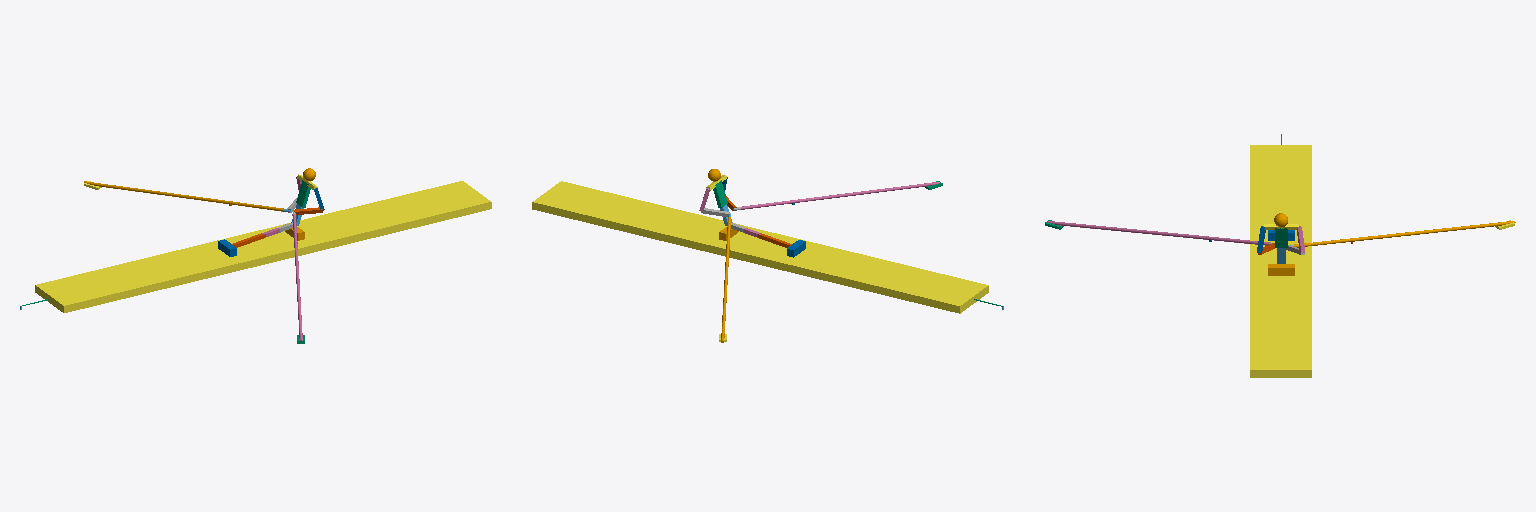
--- What the picture shows (computed from the rendered views, not written in the file) ---
The picture shows the robot from 3 angles, left to right: view 1: azimuth 30°, elevation 25°; view 2: azimuth 150°, elevation 25°; view 3: azimuth 270°, elevation 25°; orthographic projection.
Robot: myboat — 41 links, 40 joints (31 revolute, 2 prismatic, 7 fixed); root link world; default pose: every joint at zero.
Links seen in each view (by area): view 1: skiff, port_oar_l; view 2: skiff, starboard_oar_l; view 3: skiff, starboard_oar_l, port_oar_l.
Boxes of the visible links, box(x1,y1,x2,y2) form: skiff: box(35, 181, 491, 312); port_oar_l: box(84, 181, 283, 211); skiff: box(532, 181, 988, 313); starboard_oar_l: box(741, 182, 939, 209); skiff: box(1250, 145, 1311, 377); starboard_oar_l: box(1048, 221, 1269, 245); port_oar_l: box(1293, 221, 1515, 247).
Size in the robot's own frame: 6.41 by 5.32 by 0.9472 metres.
Geometry: primitives only (box / cylinder / sphere), no mesh files.

The robot description file, URDF, robot "myboat":
<?xml version="1.0" encoding="utf-8"?>
<!-- =================================================================================== -->
<!-- |    This document was autogenerated by xacro from boot.xacro                     | -->
<!-- |    EDITING THIS FILE BY HAND IS NOT RECOMMENDED                                 | -->
<!-- =================================================================================== -->
<robot name="myboat" xmlns:xacro="http://www.ros.org/wiki/xacro">
  <gazebo reference="starboard_rowlock">
    <provideFeedback>true</provideFeedback>
  </gazebo>
  <gazebo reference="port_rowlock">
    <provideFeedback>true</provideFeedback>
  </gazebo>
  <gazebo reference="starboard_oar">
    <provideFeedback>true</provideFeedback>
  </gazebo>
  <gazebo reference="port_oar">
    <provideFeedback>true</provideFeedback>
  </gazebo>
  <gazebo reference="starboard_blade">
    <provideFeedback>true</provideFeedback>
  </gazebo>
  <gazebo reference="port_blade">
    <provideFeedback>true</provideFeedback>
  </gazebo>
  <gazebo reference="skiff">
    <material>Gazebo/White</material>
    <mu1>0.01</mu1>
    <mu2>0.01</mu2>
    <collision>
      <surface>
        <friction>
          <ode>
            <slip1>0.05</slip1>
            <slip2>0.12</slip2>
          </ode>
        </friction>
      </surface>
    </collision>
  </gazebo>
  <gazebo reference="starboard_rowlock_l">
    <mu1>0.01</mu1>
    <mu2>0.01</mu2>
    <material>Gazebo/Green</material>
  </gazebo>
  <gazebo reference="port_rowlock_l">
    <mu1>0.01</mu1>
    <mu2>0.01</mu2>
    <material>Gazebo/Red</material>
    <provideFeedback>true</provideFeedback>
  </gazebo>
  <gazebo reference="starboard_oar_l">
    <mu1>0.01</mu1>
    <mu2>0.01</mu2>
    <material>Gazebo/Green</material>
    <provideFeedback>true</provideFeedback>
  </gazebo>
  <gazebo reference="port_oar_l">
    <mu1>0.01</mu1>
    <mu2>0.01</mu2>
    <material>Gazebo/Green</material>
    <provideFeedback>true</provideFeedback>
  </gazebo>
  <gazebo reference="starboard_blade_l">
    <mu1>10.0</mu1>
    <mu2>10.0</mu2>
    <material>Gazebo/Green</material>
    <provideFeedback>true</provideFeedback>
  </gazebo>
  <gazebo reference="port_blade_l">
    <mu1>10.0</mu1>
    <mu2>10.0</mu2>
    <material>Gazebo/Red</material>
    <provideFeedback>true</provideFeedback>
  </gazebo>
  <gazebo reference="voetenboord">
    <material>Gazebo/Gray</material>
  </gazebo>
  <gazebo>
    <!-- close kinematic loops in gazebo -->
    <joint name="lower12" type="fixed">
      <pose>0.25 0.0 0 0 0 0.0</pose>
      <parent>upperleg_1</parent>
      <child>upperleg_2</child>
    </joint>
    <joint name="handle_starboard" type="fixed">
      <pose>0.0 0.0 0 0 0 0.1</pose>
      <parent>Ldummy_link_1</parent>
      <child>Ldummy_link_2</child>
    </joint>
    <joint name="handle_port" type="fixed">
      <pose>0.0 0.0 0 0 0 0.1</pose>
      <parent>Rdummy_link_1</parent>
      <child>Rdummy_link_2</child>
    </joint>
  </gazebo>
  <material name="black">
    <color rgba="0.0 0.0 0.0 1.0"/>
  </material>
  <material name="blue">
    <color rgba="0.0 0.0 0.8 1.0"/>
  </material>
  <material name="green">
    <color rgba="0.0 0.8 0.0 1.0"/>
  </material>
  <material name="grey">
    <color rgba="0.2 0.2 0.2 1.0"/>
  </material>
  <material name="orange">
    <color rgba="1.0 0.423529411765 0.0392156862745 1.0"/>
  </material>
  <material name="brown">
    <color rgba="0.870588235294 0.811764705882 0.764705882353 1.0"/>
  </material>
  <material name="red">
    <color rgba="0.8 0.0 0.0 1.0"/>
  </material>
  <material name="white">
    <color rgba="1.0 1.0 1.0 1.0"/>
  </material>
  <!--
    Describes parameters of the boot model
        template version
-->
  <!--
 lengths of links, musle power?
-->
  <!-- Initial position of links that might change-->
  <joint name="the_course" type="prismatic">
    <parent link="world"/>
    <child link="l1"/>
    <origin rpy="0 0 0" xyz="0 0 0.0"/>
    <dynamics damping="0.005"/>
    <axis xyz="1 0 0"/>
    <limit effort="101.0" lower="0" upper="100" velocity="0.5"/>
  </joint>
  <joint name="rev1" type="revolute">
    <parent link="l1"/>
    <child link="l2"/>
    <origin rpy="0 1.57079632679 0" xyz="0.0 0 0.05"/>
    <dynamics damping="0.005"/>
    <axis xyz="0 1 0"/>
    <limit effort="101.0" lower="-1" upper="1" velocity="1.0"/>
  </joint>
  <joint name="rev2" type="revolute">
    <parent link="l2"/>
    <child link="skiff"/>
    <origin rpy="3.14159265359 1.57079632679 0" xyz="0.0 0.0 0.4"/>
    <dynamics damping="0.005"/>
    <axis xyz="0 1 0"/>
    <limit effort="101.0" lower="-1" upper="1" velocity="1.0"/>
  </joint>
  <joint name="starboard_rowlock" type="revolute">
    <parent link="skiff"/>
    <child link="starboard_rowlock_l"/>
    <origin rpy="0.0  0.0 -0.4939" xyz="-3 0.8 0.27"/>
    <dynamics damping="0.005"/>
    <axis xyz="0 0 1"/>
    <limit effort="101.0" lower="-0.4" upper="2.0" velocity="1.0"/>
  </joint>
  <joint name="port_rowlock" type="revolute">
    <parent link="skiff"/>
    <child link="port_rowlock_l"/>
    <origin rpy="0.0  0.0 0.4939" xyz="-3 -0.8 0.25"/>
    <dynamics damping="0.005"/>
    <axis xyz="0 0 1"/>
    <limit effort="101.0" lower="-2.0" upper="0.4" velocity="1.0"/>
  </joint>
  <joint name="starboard_oar" type="revolute">
    <parent link="starboard_rowlock_l"/>
    <child link="starboard_oar_l"/>
    <origin rpy="0.0  1.44499632679 -1.57079632679" xyz="0.0 0.0   0.02"/>
    <dynamics damping="0.005"/>
    <axis xyz="0 1 0"/>
    <limit effort="101.0" lower="-0.4" upper="0.1" velocity="1.0"/>
  </joint>
  <joint name="port_oar" type="revolute">
    <parent link="port_rowlock_l"/>
    <child link="port_oar_l"/>
    <origin rpy="0.0  1.68669632679 -1.57079632679" xyz="0.0 0.0   0.02"/>
    <dynamics damping="0.005"/>
    <axis xyz="0 1 0"/>
    <limit effort="101.0" lower="-0.1" upper="0.4" velocity="1.0"/>
  </joint>
  <joint name="starboard_blade" type="revolute">
    <parent link="starboard_oar_l"/>
    <child link="starboard_blade_l"/>
    <origin rpy="0  0.02  0.0" xyz="0.0 0.0   -2.0"/>
    <dynamics damping="0.005"/>
    <axis xyz="0 1 0"/>
    <limit effort="101.0" lower="-0.4" upper="0.4" velocity="1.0"/>
  </joint>
  <joint name="port_blade" type="revolute">
    <parent link="port_oar_l"/>
    <child link="port_blade_l"/>
    <origin rpy="0.0  0.0 0.0" xyz="0.0 0.0   2.0"/>
    <dynamics damping="0.005"/>
    <axis xyz="0 1 0"/>
    <limit effort="101.0" lower="-0.4" upper="0.4" velocity="1.0"/>
  </joint>
  <!-- Rower joints -->
  <joint name="sk_fp" type="fixed">
    <parent link="skiff"/>
    <child link="footplate"/>
    <origin rpy="0.0  0 0.0" xyz="-2.5 0.0  0.1"/>
    <dynamics damping="0.005"/>
    <limit effort="101.0" lower="-0.4" upper="0.4" velocity="1.0"/>
  </joint>
  <joint name="sliding" type="prismatic">
    <!-- prismatic -->
    <parent link="skiff"/>
    <child link="seat"/>
    <origin rpy="0 0 0" xyz="-3.44455 0.0 0.1"/>
    <dynamics damping="0.005"/>
    <axis xyz="1 0 0"/>
    <limit effort="101.0" lower="-0.1" upper="0.8" velocity="0.5"/>
  </joint>
  <joint name="fp_ll" type="revolute">
    <parent link="footplate"/>
    <child link="lowerleg"/>
    <origin rpy="0.0  0.1071 0.0" xyz="0.0 0.0   0.0"/>
    <dynamics damping="0.005"/>
    <axis xyz="0 1 0"/>
    <limit effort="101.0" lower="0.0" upper="1.57079632679" velocity="1.0"/>
  </joint>
  <joint name="knee" type="revolute">
    <parent link="lowerleg"/>
    <child link="upperleg_1"/>
    <origin rpy="0.0  0 0.0" xyz="-0.5 0.0   0.0"/>
    <dynamics damping="0.005"/>
    <axis xyz="0 1 0"/>
    <limit effort="1000.0" lower="-3.1" upper="0" velocity="1.0"/>
  </joint>
  <joint name="hip1" type="revolute">
    <parent link="seat"/>
    <child link="upperleg_2"/>
    <origin rpy="0  0.1001675 0.0" xyz="0.0 0.0   0.1"/>
    <dynamics damping="0.005"/>
    <axis xyz="0 1 0"/>
    <limit effort="101.0" lower="-1.6" upper="0" velocity="1.0"/>
  </joint>
  <joint name="hip2" type="revolute">
    <parent link="seat"/>
    <child link="back_low"/>
    <origin rpy="0  -1.89979632679 0.0" xyz="0.0 0.0   0.1"/>
    <dynamics damping="0.005"/>
    <axis xyz="0 1 0"/>
    <limit effort="1000.0" lower="-1.0" upper="1.0" velocity="1.0"/>
  </joint>
  <joint name="back_lh" type="revolute">
    <parent link="back_low"/>
    <child link="back_high"/>
    <origin rpy="0  0.0182 0.0" xyz="0.25 0.0   0.0"/>
    <dynamics damping="0.005"/>
    <axis xyz="0 1 0"/>
    <limit effort="101.0" lower="0.0" upper="0.5" velocity="1.0"/>
  </joint>
  <joint name="shoulder" type="fixed">
    <parent link="back_high"/>
    <child link="shoulder_link"/>
    <origin rpy="0  0.0 0.0" xyz="0.3 0.0   0.0"/>
    <dynamics damping="0.005"/>
    <limit effort="101.0" lower="0.0" upper="0.5" velocity="1.0"/>
  </joint>
  <joint name="head_joint" type="fixed">
    <parent link="shoulder_link"/>
    <child link="head"/>
    <origin rpy="0  0.0 0.0" xyz="0.2 0.0   0.0"/>
  </joint>
  <!-- Left branch from shoulder_link to starboard_oar -->
  <!-- 3D joint left shoulder -->
  <joint name="shoulder_l" type="revolute">
    <parent link="shoulder_link"/>
    <child link="left_shoulder_xx_link"/>
    <origin rpy="0.0 0.5674 0.0" xyz="0.0 0.2   0.0"/>
    <axis xyz="0 -1 0"/>
    <dynamics damping="0.005"/>
    <limit effort="101.0" lower="-1.0" upper="2.2" velocity="1.0"/>
  </joint>
  <link name="left_shoulder_xx_link">
    <inertial>
      <mass value="1.0"/>
      <origin rpy="0 0 0" xyz="0 0.0 0.0"/>
      <inertia ixx="0.0000167" ixy="0" ixz="0" iyy="0.0000167" iyz="0" izz="0.0000167"/>
    </inertial>
    <visual>
      <origin rpy="0 0 0" xyz="0.0 0.0 0.0"/>
      <geometry>
        <box size="0.01 0.01 0.01"/>
      </geometry>
    </visual>
  </link>
  <joint name="shoulder_psi_l" type="revolute">
    <parent link="left_shoulder_xx_link"/>
    <child link="left_shoulder_psi_link"/>
    <origin rpy="0 0.0 -0.1546" xyz="0.0 0.0   0.0"/>
    <axis xyz="0 0 -1"/>
    <dynamics damping="0.005"/>
    <limit effort="101.0" lower="-1.0" upper="1.0" velocity="1.0"/>
  </joint>
  <link name="left_shoulder_psi_link">
    <inertial>
      <mass value="1.0"/>
      <origin rpy="0 0 0" xyz="0 0.0 0.0"/>
      <inertia ixx="0.0000167" ixy="0" ixz="0" iyy="0.000167" iyz="0" izz="0.0000167"/>
    </inertial>
    <visual>
      <origin rpy="0 0 0" xyz="0.0 0.0 0.0"/>
      <geometry>
        <box size="0.01 0.01 0.01"/>
      </geometry>
    </visual>
  </link>
  <joint name="shoulder_theta_l" type="revolute">
    <parent link="left_shoulder_psi_link"/>
    <child link="arm_l_upper"/>
    <origin rpy="-0.3847 0 0" xyz="0.0 0.0 0.0"/>
    <axis xyz="1 0 0"/>
    <dynamics damping="0.005"/>
    <limit effort="101.0" lower="-1.0" upper="1.0" velocity="1.0"/>
  </joint>
  <!-- 3D joint left elbow -->
  <joint name="elbow_xx_l" type="revolute">
    <parent link="arm_l_upper"/>
    <child link="left_elbow_theta_link"/>
    <origin rpy=" 3.14159265359 -1.75859632679  0.0" xyz="-0.3 0.0  0.0"/>
    <axis xyz="0 1 0"/>
    <dynamics damping="0.005"/>
    <limit effort="101.0" lower="-1.77079632679" upper="1.57079632679" velocity="1.0"/>
  </joint>
  <link name="left_elbow_theta_link">
    <inertial>
      <mass value="1.0"/>
      <origin rpy="0 0 0" xyz="0 0.0 0.0"/>
      <inertia ixx="0.0000167" ixy="0" ixz="0" iyy="0.0000167" iyz="0" izz="0.0000167"/>
    </inertial>
    <visual>
      <origin rpy="0 0 0" xyz="0.0 0.0 0.0"/>
      <geometry>
        <box size="0.01 0.01 0.01"/>
      </geometry>
    </visual>
  </link>
  <joint name="elbow_theta_l" type="revolute">
    <parent link="left_elbow_theta_link"/>
    <child link="left_elbow_psi_link"/>
    <origin rpy="0 0.0  -0.1514" xyz="-0.0 0.0  0.0"/>
    <axis xyz="0 0 -1"/>
    <dynamics damping="0.005"/>
    <limit effort="101.0" lower="-0.7" upper="2.0" velocity="1.0"/>
  </joint>
  <link name="left_elbow_psi_link">
    <inertial>
      <mass value="1.0"/>
      <origin rpy="0 0 0" xyz="0 0.0 0.0"/>
      <inertia ixx="0.0000167" ixy="0" ixz="0" iyy="0.0000167" iyz="0" izz="0.0000167"/>
    </inertial>
    <visual>
      <origin rpy="0 0 0" xyz="0.0 0.0 0.0"/>
      <geometry>
        <box size="0.01 0.01 0.01"/>
      </geometry>
    </visual>
  </link>
  <joint name="elbow_left" type="revolute">
    <parent link="left_elbow_psi_link"/>
    <child link="arm_l_lower"/>
    <origin rpy="0.2139 0 0" xyz="-0.0 0.0 0.0"/>
    <dynamics damping="0.005"/>
    <axis xyz="1 0 0"/>
    <limit effort="101.0" lower="-1.0" upper="1.0" velocity="1.0"/>
  </joint>
  <!-- 3D handle joint left -->
  <joint name="handle_left_j3" type="revolute">
    <parent link="arm_l_lower"/>
    <child link="handle_left_l2"/>
    <origin rpy="1.57079632679 0.0805 0" xyz="-0.35 0.0 0.0"/>
    <dynamics damping="0.005"/>
    <axis xyz="0 1 0"/>
    <limit effort="101.0" lower="-1" upper="1" velocity="1.0"/>
  </joint>
  <link name="handle_left_l2">
    <inertial>
      <mass value="0.1"/>
      <origin rpy="0 0 0" xyz="0 0.0 0.0"/>
      <inertia ixx="0.00000167" ixy="0" ixz="0" iyy="0.00000167" iyz="0" izz="0.00000167"/>
    </inertial>
    <visual>
      <origin rpy="0 0 0" xyz="0.0 0.0 0.0"/>
      <geometry>
        <box size="0.01 0.01 0.01"/>
      </geometry>
    </visual>
  </link>
  <joint name="handle_left_j2" type="revolute">
    <parent link="handle_left_l2"/>
    <child link="handle_left_l1"/>
    <origin rpy="-0.0566 0 0" xyz="0 0.0 0.0"/>
    <dynamics damping="0.005"/>
    <axis xyz="1 0 0"/>
    <limit effort="101.0" lower="-1" upper="1" velocity="1.0"/>
  </joint>
  <link name="handle_left_l1">
    <inertial>
      <mass value="0.1"/>
      <origin rpy="0 0 0" xyz="0 0.0 0.0"/>
      <inertia ixx="0.00000167" ixy="0" ixz="0" iyy="0.00000167" iyz="0" izz="0.00000167"/>
    </inertial>
    <visual>
      <origin rpy="0 0 0" xyz="0.0 0.0 0.0"/>
      <geometry>
        <box size="0.01 0.01 0.01"/>
      </geometry>
    </visual>
  </link>
  <joint name="handle_left_j1" type="revolute">
    <parent link="handle_left_l1"/>
    <child link="starboard_handle_l"/>
    <origin rpy="0 0 -0.0905" xyz="0 0.0 0"/>
    <dynamics damping="0.005"/>
    <axis xyz="0 0 1"/>
    <limit effort="101.0" lower="-1" upper="1" velocity="1.0"/>
  </joint>
  <joint name="Ldummy_2" type="fixed">
    <parent link="starboard_handle_l"/>
    <child link="Ldummy_link_2"/>
    <origin rpy="0 0 0 " xyz="0.0 0.0 0.075"/>
    <dynamics damping="0.005"/>
    <limit effort="101.0" lower="-1.0" upper="1.0" velocity="1.0"/>
  </joint>
  <link name="Ldummy_link_2">
    <inertial>
      <mass value="0.1"/>
      <origin rpy="0 0 0" xyz="0 0.0 0.0"/>
      <inertia ixx="0.000000167" ixy="0" ixz="0" iyy="0.000000167" iyz="0" izz="0.000000167"/>
    </inertial>
    <visual>
      <origin rpy="0 0 0" xyz="0.0 0.0 0.0"/>
      <geometry>
        <box size="0.01 0.01 0.01"/>
      </geometry>
    </visual>
  </link>
  <!-- in gazebo here the joint that closes the left loop -->
  <link name="Ldummy_link_1">
    <inertial>
      <mass value="0.1"/>
      <origin rpy="0 0 0" xyz="0 0.0 0.0"/>
      <inertia ixx="0.000000167" ixy="0" ixz="0" iyy="0.000000167" iyz="0" izz="0.000000167"/>
    </inertial>
    <visual>
      <origin rpy="0 0 0" xyz="0.0 0.0 0.0"/>
      <geometry>
        <box size="0.01 0.01 0.01"/>
      </geometry>
    </visual>
  </link>
  <joint name="Ldummy_1" type="fixed">
    <parent link="starboard_oar_l"/>
    <child link="Ldummy_link_1"/>
    <origin rpy="0 3.14159265359 1.57079632679" xyz="0 0 0.77 "/>
    <dynamics damping="0.005"/>
    <limit effort="101.0" lower="-1.0" upper="1.0" velocity="1.0"/>
  </joint>
  <!-- Right branch from shoulder_link to port_handle -->
  <!-- 3D joint right shoulder -->
  <joint name="shoulder_r" type="revolute">
    <parent link="shoulder_link"/>
    <child link="right_shoulder_xx_link"/>
    <origin rpy="0.0 0.5573  0" xyz="0.0 -0.2   0.0"/>
    <axis xyz="0 -1 0"/>
    <dynamics damping="0.005"/>
    <limit effort="101.0" lower="-1.0" upper="2.2" velocity="1.0"/>
  </joint>
  <link name="right_shoulder_xx_link">
    <inertial>
      <mass value="1.0"/>
      <origin rpy="0 0 0" xyz="0 0.0 0.0"/>
      <inertia ixx="0.0000167" ixy="0" ixz="0" iyy="0.0000167" iyz="0" izz="0.0000167"/>
    </inertial>
    <visual>
      <origin rpy="0 0 0" xyz="0.0 0.0 0.0"/>
      <geometry>
        <box size="0.01 0.01 0.01"/>
      </geometry>
    </visual>
  </link>
  <joint name="shoulder_psi_r" type="revolute">
    <parent link="right_shoulder_xx_link"/>
    <child link="right_shoulder_psi_link"/>
    <origin rpy="0 0.0 0.1429" xyz="0.0 0.0   0.0"/>
    <axis xyz="0 0 1"/>
    <dynamics damping="0.005"/>
    <limit effort="101.0" lower="-1.0" upper="1.0" velocity="1.0"/>
  </joint>
  <link name="right_shoulder_psi_link">
    <inertial>
      <mass value="1.0"/>
      <origin rpy="0 0 0" xyz="0 0.0 0.0"/>
      <inertia ixx="0.0000167" ixy="0" ixz="0" iyy="0.0000167" iyz="0" izz="0.0000167"/>
    </inertial>
    <visual>
      <origin rpy="0 0 0" xyz="0.0 0.0 0.0"/>
      <geometry>
        <box size="0.01 0.01 0.01"/>
      </geometry>
    </visual>
  </link>
  <joint name="shoulder_theta_r" type="revolute">
    <parent link="right_shoulder_psi_link"/>
    <child link="arm_r_upper"/>
    <origin rpy="3.52999265359 0 0" xyz="0.0 0.0 0.0"/>
    <axis xyz="-1 0 0"/>
    <dynamics damping="0.005"/>
    <limit effort="101.0" lower="-1.0" upper="1.0" velocity="1.0"/>
  </joint>
  <!-- 3D joint right elbow -->
  <joint name="elbow_xx_r" type="revolute">
    <parent link="arm_r_upper"/>
    <child link="right_elbow_theta_link"/>
    <origin rpy="0 1.66469632679  0.0" xyz="-0.3 0.0  0.0"/>
    <axis xyz="0 1 0"/>
    <dynamics damping="0.005"/>
    <limit effort="101.0" lower="-1.77079632679" upper="1.57079632679" velocity="1.0"/>
  </joint>
  <link name="right_elbow_theta_link">
    <inertial>
      <mass value="1.0"/>
      <origin rpy="0 0 0" xyz="0 0.0 0.0"/>
      <inertia ixx="0.0000167" ixy="0" ixz="0" iyy="0.0000167" iyz="0" izz="0.0000167"/>
    </inertial>
    <visual>
      <origin rpy="0 0 0" xyz="0.0 0.0 0.0"/>
      <geometry>
        <box size="0.01 0.01 0.01"/>
      </geometry>
    </visual>
  </link>
  <joint name="elbow_theta_r" type="revolute">
    <parent link="right_elbow_theta_link"/>
    <child link="right_elbow_psi_link"/>
    <origin rpy="0.0 0.0  0.1502" xyz="0.0 0.0  0.0"/>
    <axis xyz="0 0 1"/>
    <dynamics damping="0.005"/>
    <limit effort="101.0" lower="-2.0" upper="1.0" velocity="1.0"/>
  </joint>
  <link name="right_elbow_psi_link">
    <inertial>
      <mass value="1.0"/>
      <origin rpy="0 0 0" xyz="0 0.0 0.0"/>
      <inertia ixx="0.0000167" ixy="0" ixz="0" iyy="0.0000167" iyz="0" izz="0.0000167"/>
    </inertial>
    <visual>
      <origin rpy="0 0 0" xyz="0.0 0.0 0.0"/>
      <geometry>
        <box size="0.01 0.01 0.01"/>
      </geometry>
    </visual>
  </link>
  <joint name="elbow_right" type="revolute">
    <parent link="right_elbow_psi_link"/>
    <child link="arm_r_lower"/>
    <origin rpy="-0.1662 0 0" xyz="0.0 0.0 0.0"/>
    <dynamics damping="0.005"/>
    <axis xyz="-1 0 0"/>
    <limit effort="101.0" lower="-1.0" upper="1.0" velocity="1.0"/>
  </joint>
  <!-- 3D handle joint right-->
  <joint name="handle_right_j3" type="revolute">
    <parent link="arm_r_lower"/>
    <child link="handle_right_l2"/>
    <origin rpy="1.57079632679 -0.0429 0" xyz="-0.35 0.0 0.0"/>
    <dynamics damping="0.005"/>
    <axis xyz="0 -1 0"/>
    <limit effort="101.0" lower="-1" upper="1" velocity="1.0"/>
  </joint>
  <link name="handle_right_l2">
    <inertial>
      <mass value="0.1"/>
      <origin rpy="0 0 0" xyz="0 0.0 0.0"/>
      <inertia ixx="0.00000167" ixy="0" ixz="0" iyy="0.00000167" iyz="0" izz="0.00000167"/>
    </inertial>
    <visual>
      <origin rpy="0 0 0" xyz="0.0 0.0 0.0"/>
      <geometry>
        <box size="0.01 0.01 0.01"/>
      </geometry>
    </visual>
  </link>
  <joint name="handle_right_j2" type="revolute">
    <parent link="handle_right_l2"/>
    <child link="handle_right_l1"/>
    <origin rpy="0.0329 0 0" xyz="0 0.0 0.0"/>
    <dynamics damping="0.005"/>
    <axis xyz="-1 0 0"/>
    <limit effort="101.0" lower="-1" upper="1.2" velocity="1.0"/>
  </joint>
  <link name="handle_right_l1">
    <inertial>
      <mass value="0.1"/>
      <origin rpy="0 0 0" xyz="0 0.0 0.0"/>
      <inertia ixx="0.00000167" ixy="0" ixz="0" iyy="0.00000167" iyz="0" izz="0.00000167"/>
    </inertial>
    <visual>
      <origin rpy="0 0 0" xyz="0.0 0.0 0.0"/>
      <geometry>
        <box size="0.01 0.01 0.01"/>
      </geometry>
    </visual>
  </link>
  <joint name="handle_right_j1" type="revolute">
    <parent link="handle_right_l1"/>
    <child link="port_handle_l"/>
    <origin rpy="0 0 -0.2017" xyz="0 0.0 0"/>
    <dynamics damping="0.005"/>
    <axis xyz="0 0 1"/>
    <limit effort="101.0" lower="-1" upper="1" velocity="1.0"/>
  </joint>
  <joint name="Rdummy_2" type="fixed">
    <parent link="port_handle_l"/>
    <child link="Rdummy_link_2"/>
    <origin rpy="3.14159265359 0  0.0" xyz="0.0 0.0 -0.075"/>
    <dynamics damping="0.005"/>
    <limit effort="101.0" lower="-1.0" upper="1.0" velocity="1.0"/>
  </joint>
  <link name="Rdummy_link_2">
    <inertial>
      <mass value="0.1"/>
      <origin rpy="0 0 0" xyz="0 0.0 0.0"/>
      <inertia ixx="0.000000167" ixy="0" ixz="0" iyy="0.000000167" iyz="0" izz="0.000000167"/>
    </inertial>
    <visual>
      <origin rpy="0 0 0" xyz="0.0 0.0 0.0"/>
      <geometry>
        <box size="0.01 0.01 0.01"/>
      </geometry>
    </visual>
  </link>
  <!-- in gazebo here the joint that closes the right loop -->
  <link name="Rdummy_link_1">
    <inertial>
      <mass value="0.1"/>
      <origin rpy="0 0 0" xyz="0 0.0 0.0"/>
      <inertia ixx="0.000000167" ixy="0" ixz="0" iyy="0.000000167" iyz="0" izz="0.000000167"/>
    </inertial>
    <visual>
      <origin rpy="0 0 0" xyz="0.0 0.0 0.0"/>
      <geometry>
        <box size="0.01 0.01 0.01"/>
      </geometry>
    </visual>
  </link>
  <joint name="Rdummy_1" type="fixed">
    <parent link="port_oar_l"/>
    <child link="Rdummy_link_1"/>
    <origin rpy="0 0 -1.57079632679" xyz="0.0 0.0 -0.77"/>
    <dynamics damping="0.005"/>
    <limit effort="101.0" lower="-1.0" upper="1.0" velocity="1.0"/>
  </joint>
  <!-- Boat links -->
  <link name="world"/>
  <link name="l1">
    <inertial>
      <mass value="0.1"/>
      <origin rpy="0 0 0" xyz="0 0.0 0.025"/>
      <inertia ixx="0.000033" ixy="0" ixz="0" iyy="0.000033" iyz="0" izz="0.000000167"/>
    </inertial>
    <visual>
      <origin rpy="0 0 0" xyz="0.0 0.0 0.025"/>
      <geometry>
        <box size="0.01 0.01 0.05"/>
      </geometry>
    </visual>
  </link>
  <link name="l2">
    <inertial>
      <mass value="0.1"/>
      <origin rpy="0 0 0" xyz="0 0.0 0.2"/>
      <inertia ixx="0.000133" ixy="0" ixz="0" iyy="000133" iyz="0" izz="0.000000167"/>
    </inertial>
    <visual>
      <origin rpy="0 0 0" xyz="0.0 0.0 0.2"/>
      <geometry>
        <box size="0.01 0.01 0.40"/>
      </geometry>
    </visual>
  </link>
  <link name="skiff">
    <inertial>
      <mass value="85"/>
      <!-- boat plus roeier -->
      <origin rpy="0 0 0" xyz="-3 0.0 0.00"/>
      <inertia ixx="3.2" ixy="0" ixz="0" iyy="225" iyz="0" izz="228"/>
      <!-- weight= 60 -->
      <!--      <inertia ixx="0.6" ixy="0" ixz="0" iyy="11" iyz="0" izz="11.8"/>  -->
    </inertial>
    <collision>
      <origin rpy="0 0 0" xyz="-3 0.0   0.00"/>
      <geometry>
        <box size="6.0 0.7 0.1"/>
      </geometry>
    </collision>
    <visual>
      <!-- should be a nice skull shape including riggers-->
      <origin rpy="0 0 0" xyz="-3 0.0   0.00"/>
      <geometry>
        <box size="6.0 0.7 0.1"/>
      </geometry>
    </visual>
  </link>
  <link name="starboard_rowlock_l">
    <inertial>
      <mass value="0.1"/>
      <origin rpy="0 0 0" xyz="0.0 0.0 0.0"/>
      <inertia ixx="0.000017" ixy="0" ixz="0" iyy="0.000017" iyz="0" izz="0.000007"/>
    </inertial>
    <collision>
      <origin rpy="0 0 0" xyz="0.0 0.0   0.0"/>
      <geometry>
        <box size="0.02 0.02 0.04"/>
      </geometry>
    </collision>
    <visual>
      <origin rpy="0 0 0" xyz="0.0 0.0   0.0"/>
      <geometry>
        <box size="0.02 0.02 0.04"/>
      </geometry>
    </visual>
  </link>
  <link name="port_rowlock_l">
    <inertial>
      <mass value="0.1"/>
      <origin rpy="0 0 0" xyz="0.0 0.0 0.0"/>
      <inertia ixx="0.000017" ixy="0" ixz="0" iyy="0.000017" iyz="0" izz="0.000007"/>
    </inertial>
    <collision>
      <origin rpy="0 0 0" xyz="0.0 0.0   0.0"/>
      <geometry>
        <box size="0.02 0.02 0.04"/>
      </geometry>
    </collision>
    <visual>
      <origin rpy="0 0 0" xyz="0.0 0.0   0.0"/>
      <geometry>
        <box size="0.02 0.02 0.04"/>
      </geometry>
    </visual>
  </link>
  <link name="starboard_oar_l">
    <inertial>
      <mass value="1.0"/>
      <origin rpy="0 0 0" xyz="0 0 -0.665"/>
      <inertia ixx="0.6" ixy="0" ixz="0" iyy="0.6" iyz="0" izz="0.0002"/>
    </inertial>
    <collision>
      <origin rpy="0 0 0" xyz="0   0   -0.665"/>
      <geometry>
        <cylinder length="2.27" radius="0.02"/>
      </geometry>
    </collision>
    <visual>
      <origin rpy="0 0 0" xyz="0   0.0   -0.665"/>
      <geometry>
        <cylinder length="2.87" radius="0.02"/>
      </geometry>
    </visual>
  </link>
  <link name="starboard_handle_l">
    <inertial>
      <mass value="1.0"/>
      <origin rpy="0 0 0" xyz="0 0 0.025"/>
      <inertia ixx="0.6" ixy="0" ixz="0" iyy="0.6" iyz="0" izz="0.0002"/>
    </inertial>
    <visual>
      <origin rpy="0 0 0" xyz="0   0.0   0.025"/>
      <geometry>
        <cylinder length="0.1" radius="0.02"/>
      </geometry>
    </visual>
  </link>
  <link name="port_oar_l">
    <inertial>
      <mass value="1.0"/>
      <origin rpy="0 0 0" xyz="0 0 0.665"/>
      <inertia ixx="0.6" ixy="0" ixz="0" iyy="0.6" iyz="0" izz="0.0002"/>
    </inertial>
    <collision>
      <origin rpy="0 0 0" xyz="0   0   0.665"/>
      <geometry>
        <cylinder length="2.27" radius="0.02"/>
        <!-- -0.6 to prevent collissions  -->
      </geometry>
    </collision>
    <visual>
      <origin rpy="0 0 0" xyz="0   0   0.665"/>
      <geometry>
        <cylinder length="2.87" radius="0.02"/>
      </geometry>
    </visual>
  </link>
  <link name="port_handle_l">
    <inertial>
      <mass value="1.0"/>
      <origin rpy="0 0 0" xyz="0 0 -0.025"/>
      <inertia ixx="0.6" ixy="0" ixz="0" iyy="0.6" iyz="0" izz="0.0002"/>
    </inertial>
    <visual>
      <origin rpy="0 0 0" xyz="0   0   -0.025"/>
      <geometry>
        <cylinder length="0.1" radius="0.02"/>
      </geometry>
    </visual>
  </link>
  <link name="starboard_blade_l">
    <inertial>
      <mass value="1.0"/>
      <origin rpy="0 -1.4 0" xyz="0.02 0 -0.02"/>
      <inertia ixx="0.0009" ixy="0" ixz="0" iyy="0.0034" iyz="0" izz="0.004"/>
    </inertial>
    <collision>
      <origin rpy="0 -1.4 0" xyz="0.02    0   -0.02"/>
      <geometry>
        <box size="0.2 0.1 0.03"/>
      </geometry>
    </collision>
    <visual>
      <origin rpy="0 -1.4 0" xyz="0.02    0   -0.02"/>
      <geometry>
        <box size="0.2 0.1 0.03"/>
      </geometry>
    </visual>
  </link>
  <link name="port_blade_l">
    <inertial>
      <mass value="1.0"/>
      <origin rpy="0 1.4 0" xyz="0.02 0 -0.02"/>
      <inertia ixx="0.0009" ixy="0" ixz="0" iyy="0.0034" iyz="0" izz="0.004"/>
    </inertial>
    <collision>
      <origin rpy="0 1.4 0" xyz="0.02    0   -0.02"/>
      <geometry>
        <box size="0.2 0.1 0.03"/>
      </geometry>
    </collision>
    <visual>
      <origin rpy="0 1.4 0" xyz="0.02    0.0  -0.02"/>
      <geometry>
        <box size="0.2 0.1 0.03"/>
      </geometry>
    </visual>
  </link>
  <!-- Rower links -->
  <link name="footplate">
    <inertial>
      <mass value="0.1"/>
      <origin rpy="0 0 0" xyz="0 0.0 0.0"/>
      <inertia ixx="0.0008" ixy="0" ixz="0" iyy="0.000166" iyz="0" izz="0.0008"/>
    </inertial>
    <collision>
      <origin rpy="0 0 0" xyz="0 0.0   0.0"/>
      <geometry>
        <box size="0.1 0.3 0.1"/>
      </geometry>
    </collision>
    <visual>
      <origin rpy="0 0 0" xyz="0  0.0   0.0"/>
      <geometry>
        <box size="0.1 0.3 0.1"/>
      </geometry>
    </visual>
  </link>
  <link name="lowerleg">
    <inertial>
      <mass value="1.0"/>
      <origin rpy="0 0 0" xyz="-0.265 0.0 0.0"/>
      <inertia ixx="0.00041" ixy="0" ixz="0" iyy="0.021" iyz="0" izz="0.021"/>
    </inertial>
    <collision>
      <origin rpy="0 0 0" xyz="-0.265 0.0   0.0"/>
      <geometry>
        <box size="0.53 0.05 0.05"/>
      </geometry>
    </collision>
    <visual>
      <origin rpy="0 0 0" xyz="-0.265 0.0   0.0"/>
      <geometry>
        <box size="0.53 0.05 0.05"/>
      </geometry>
    </visual>
  </link>
  <!-- upperleg split into two parts to avoid a kinematic loop in the urdf
       the loop will be close in gazebo -->
  <link name="upperleg_1">
    <inertial>
      <mass value="1.0"/>
      <origin rpy="0 0 0" xyz="-0.1125 0.0 0.0"/>
      <inertia ixx="0.00041" ixy="0" ixz="0" iyy="0.0054" iyz="0" izz="0.0054"/>
    </inertial>
    <collision>
      <origin rpy="0 0 0" xyz="-0.1125  0.0   0.0"/>
      <geometry>
        <box size="0.225 0.05 0.05"/>
      </geometry>
    </collision>
    <visual>
      <origin rpy="0 0 0" xyz="-0.1125   0.0   0.0"/>
      <geometry>
        <box size="0.225 0.05 0.05"/>
      </geometry>
    </visual>
  </link>
  <link name="upperleg_2">
    <inertial>
      <mass value="1.0"/>
      <origin rpy="0 0 0" xyz="0.1125 0.0 0.0"/>
      <inertia ixx="0.00041" ixy="0" ixz="0" iyy="0.0054" iyz="0" izz="0.0054"/>
    </inertial>
    <collision>
      <origin rpy="0 0 0" xyz="0.1125  0.0   0.0"/>
      <geometry>
        <box size="0.225 0.05 0.05"/>
      </geometry>
    </collision>
    <visual>
      <origin rpy="0 0 0" xyz="0.1125 0.0   0.0"/>
      <geometry>
        <box size="0.225 0.05 0.05"/>
      </geometry>
    </visual>
  </link>
  <link name="seat">
    <inertial>
      <mass value="0.1"/>
      <origin rpy="0 0 0" xyz="0.0 0.0 0.0"/>
      <inertia ixx="0.001" ixy="0" ixz="0" iyy="0.0005" iyz="0" izz="0.001"/>
    </inertial>
    <collision>
      <origin rpy="0 0 0" xyz="0.0 0.0   0.0"/>
      <geometry>
        <box size="0.1 0.3 0.1"/>
      </geometry>
    </collision>
    <visual>
      <origin rpy="0 0 0" xyz="0.0 0.0   0.0"/>
      <geometry>
        <box size="0.1 0.3 0.1"/>
      </geometry>
    </visual>
  </link>
  <link name="back_low">
    <inertial>
      <mass value="10.0"/>
      <origin rpy="0 0 0" xyz="0.125 0.0 0.0"/>
      <inertia ixx="0.01" ixy="0" ixz="0" iyy="0.054" iyz="0" izz="0.06"/>
    </inertial>
    <collision>
      <origin rpy="0 0 0" xyz="0.125  0.0   0.0"/>
      <geometry>
        <box size="0.25 0.1 0.05"/>
      </geometry>
    </collision>
    <visual>
      <origin rpy="0 0 0" xyz="0.125 0.0   0.0"/>
      <geometry>
        <box size="0.25 0.1 0.05"/>
      </geometry>
    </visual>
  </link>
  <link name="back_high">
    <inertial>
      <mass value="10.0"/>
      <origin rpy="0 0 0" xyz="0.15 0.0 0.0"/>
      <inertia ixx="0.02" ixy="0" ixz="0" iyy="0.077" iyz="0" izz="0.094"/>
    </inertial>
    <collision>
      <origin rpy="0 0 0" xyz="0.15  0.0   0.0"/>
      <geometry>
        <box size="0.3 0.15 0.05"/>
      </geometry>
    </collision>
    <visual>
      <origin rpy="0 0 0" xyz="0.15 0.0   0.0"/>
      <geometry>
        <box size="0.3 0.15 0.05"/>
      </geometry>
    </visual>
  </link>
  <!-- Shoulder in 3 parts to break the kinematic loops -->
  <link name="shoulder_link">
    <inertial>
      <mass value="1.0"/>
      <origin rpy="0 0 0" xyz="0.0 0.0 0.0"/>
      <inertia ixx="0.013" ixy="0" ixz="0" iyy="0.0004" iyz="0" izz="0.013"/>
    </inertial>
    <collision>
      <origin rpy="0 0 0" xyz="0.0  0.0   0.0"/>
      <geometry>
        <box size="0.05 0.4 0.05"/>
      </geometry>
    </collision>
    <visual>
      <origin rpy="0 0 0" xyz="0.0 0.0   0.0"/>
      <geometry>
        <box size="0.05 0.4 0.05"/>
      </geometry>
    </visual>
  </link>
  <link name="arm_l_upper">
    <inertial>
      <mass value="1.0"/>
      <origin rpy="0 0 0" xyz="-0.15 0.0 0.0"/>
      <inertia ixx="0.00041" ixy="0" ixz="0" iyy="0.01" iyz="0" izz="0.01"/>
    </inertial>
    <collision>
      <origin rpy="0 0 0" xyz="-0.15 0.0   0.0"/>
      <geometry>
        <box size="0.30 0.05 0.05"/>
      </geometry>
    </collision>
    <visual>
      <origin rpy="0 0 0" xyz="-0.15 0.0   0.0"/>
      <geometry>
        <box size="0.30 0.05 0.05"/>
      </geometry>
    </visual>
  </link>
  <link name="arm_l_lower">
    <inertial>
      <mass value="1.0"/>
      <origin rpy="0 0 0" xyz="-0.175 0.0 0.0"/>
      <inertia ixx="0.00041" ixy="0" ixz="0" iyy="0.0135" iyz="0" izz="0.0135"/>
    </inertial>
    <collision>
      <origin rpy="0 0 0" xyz="-0.175 0.0   0.0"/>
      <geometry>
        <box size="0.35 0.05 0.05"/>
      </geometry>
    </collision>
    <visual>
      <origin rpy="0 0 0" xyz="-0.175 0.0   0.0"/>
      <geometry>
        <box size="0.35 0.05 0.05"/>
      </geometry>
    </visual>
  </link>
  <link name="arm_r_upper">
    <inertial>
      <mass value="1.0"/>
      <origin rpy="0 0 0" xyz="-0.15 0.0 0.0"/>
      <inertia ixx="0.0004" ixy="0" ixz="0" iyy="0.01" iyz="0" izz="0.01"/>
    </inertial>
    <collision>
      <origin rpy="0 0 0" xyz="-0.15 0.0   0.0"/>
      <geometry>
        <box size="0.3 0.05 0.05"/>
      </geometry>
    </collision>
    <visual>
      <origin rpy="0 0 0" xyz="-0.15 0.0   0.0"/>
      <geometry>
        <box size="0.3 0.05 0.05"/>
      </geometry>
    </visual>
  </link>
  <link name="arm_r_lower">
    <inertial>
      <mass value="1.0"/>
      <origin rpy="0 0 0" xyz="-0.175 0.0 0.0"/>
      <inertia ixx="0.0004" ixy="0" ixz="0" iyy="0.0035" iyz="0" izz="0.0035"/>
    </inertial>
    <collision>
      <origin rpy="0 0 0" xyz="-0.175 0.0   0.0"/>
      <geometry>
        <box size="0.35 0.05 0.05"/>
      </geometry>
    </collision>
    <visual>
      <origin rpy="0 0 0" xyz="-0.175 0.0   0.0"/>
      <geometry>
        <box size="0.35 0.05 0.05"/>
      </geometry>
    </visual>
  </link>
  <link name="head">
    <inertial>
      <mass value="5.0"/>
      <origin rpy="0 0 0" xyz="-0.1 0.0 0.0"/>
      <inertia ixx="0.0128" ixy="0" ixz="0" iyy="0.0128" iyz="0" izz="0.0128"/>
    </inertial>
    <collision>
      <origin rpy="0 0 0" xyz="-0.1 0.0   0.0"/>
      <geometry>
        <sphere radius="0.08"/>
      </geometry>
    </collision>
    <visual>
      <origin rpy="0 0 0" xyz="-0.1 0.0   0.0"/>
      <geometry>
        <sphere radius="0.08"/>
      </geometry>
    </visual>
  </link>
  <!-- Boat transmissions -->
  <transmission name="tran1">
    <type>transmission_interface/SimpleTransmission</type>
    <joint name="starboard_rowlock">
      <hardwareInterface>hardware_interface/EffortJointInterface</hardwareInterface>
    </joint>
    <actuator name="motor1">
      <mechanicalReduction>1</mechanicalReduction>
    </actuator>
  </transmission>
  <transmission name="tran2">
    <type>transmission_interface/SimpleTransmission</type>
    <joint name="port_rowlock">
      <hardwareInterface>hardware_interface/EffortJointInterface</hardwareInterface>
    </joint>
    <actuator name="motor2">
      <mechanicalReduction>1</mechanicalReduction>
    </actuator>
  </transmission>
  <transmission name="tran3">
    <type>transmission_interface/SimpleTransmission</type>
    <joint name="starboard_oar">
      <hardwareInterface>hardware_interface/EffortJointInterface</hardwareInterface>
    </joint>
    <actuator name="motor3">
      <mechanicalReduction>1</mechanicalReduction>
    </actuator>
  </transmission>
  <transmission name="tran4">
    <type>transmission_interface/SimpleTransmission</type>
    <joint name="port_oar">
      <hardwareInterface>hardware_interface/EffortJointInterface</hardwareInterface>
    </joint>
    <actuator name="motor4">
      <mechanicalReduction>1</mechanicalReduction>
    </actuator>
  </transmission>
  <transmission name="tran5">
    <type>transmission_interface/SimpleTransmission</type>
    <joint name="starboard_blade">
      <hardwareInterface>hardware_interface/EffortJointInterface</hardwareInterface>
    </joint>
    <actuator name="motor5">
      <mechanicalReduction>1</mechanicalReduction>
    </actuator>
  </transmission>
  <transmission name="tran6">
    <type>transmission_interface/SimpleTransmission</type>
    <joint name="port_blade">
      <hardwareInterface>hardware_interface/EffortJointInterface</hardwareInterface>
    </joint>
    <actuator name="motor6">
      <mechanicalReduction>1</mechanicalReduction>
    </actuator>
  </transmission>
  <!-- Rower transmissions -->
  <transmission name="tran7">
    <type>transmission_interface/SimpleTransmission</type>
    <joint name="knee">
      <hardwareInterface>hardware_interface/EffortJointInterface</hardwareInterface>
    </joint>
    <actuator name="motor7">
      <mechanicalReduction>1</mechanicalReduction>
    </actuator>
  </transmission>
  <transmission name="tran8">
    <type>transmission_interface/SimpleTransmission</type>
    <joint name="hip1">
      <hardwareInterface>hardware_interface/EffortJointInterface</hardwareInterface>
    </joint>
    <actuator name="motor8">
      <mechanicalReduction>1</mechanicalReduction>
    </actuator>
  </transmission>
  <transmission name="tran9">
    <type>transmission_interface/SimpleTransmission</type>
    <joint name="hip2">
      <hardwareInterface>hardware_interface/EffortJointInterface</hardwareInterface>
    </joint>
    <actuator name="motor9">
      <mechanicalReduction>1</mechanicalReduction>
    </actuator>
  </transmission>
  <transmission name="tran10">
    <type>transmission_interface/SimpleTransmission</type>
    <joint name="back_lh">
      <hardwareInterface>hardware_interface/EffortJointInterface</hardwareInterface>
    </joint>
    <actuator name="motor10">
      <mechanicalReduction>1</mechanicalReduction>
    </actuator>
  </transmission>
  <transmission name="tran11">
    <type>transmission_interface/SimpleTransmission</type>
    <joint name="shoulder_l">
      <hardwareInterface>hardware_interface/EffortJointInterface</hardwareInterface>
    </joint>
    <actuator name="motor11">
      <mechanicalReduction>1</mechanicalReduction>
    </actuator>
  </transmission>
  <transmission name="tran12">
    <type>transmission_interface/SimpleTransmission</type>
    <joint name="shoulder_psi_l">
      <hardwareInterface>hardware_interface/EffortJointInterface</hardwareInterface>
    </joint>
    <actuator name="motor12">
      <mechanicalReduction>1</mechanicalReduction>
    </actuator>
  </transmission>
  <transmission name="tran13">
    <type>transmission_interface/SimpleTransmission</type>
    <joint name="shoulder_theta_l">
      <hardwareInterface>hardware_interface/EffortJointInterface</hardwareInterface>
    </joint>
    <actuator name="motor13">
      <mechanicalReduction>1</mechanicalReduction>
    </actuator>
  </transmission>
  <transmission name="tran14">
    <type>transmission_interface/SimpleTransmission</type>
    <joint name="elbow_theta_l">
      <hardwareInterface>hardware_interface/EffortJointInterface</hardwareInterface>
    </joint>
    <actuator name="motor14">
      <mechanicalReduction>1</mechanicalReduction>
    </actuator>
  </transmission>
  <transmission name="tran15">
    <type>transmission_interface/SimpleTransmission</type>
    <joint name="elbow_left">
      <hardwareInterface>hardware_interface/EffortJointInterface</hardwareInterface>
    </joint>
    <actuator name="motor15">
      <mechanicalReduction>1</mechanicalReduction>
    </actuator>
  </transmission>
  <transmission name="tran16">
    <type>transmission_interface/SimpleTransmission</type>
    <joint name="handle_left_j1">
      <hardwareInterface>hardware_interface/EffortJointInterface</hardwareInterface>
    </joint>
    <actuator name="motor16">
      <mechanicalReduction>1</mechanicalReduction>
    </actuator>
  </transmission>
  <transmission name="tran17">
    <type>transmission_interface/SimpleTransmission</type>
    <joint name="handle_left_j2">
      <hardwareInterface>hardware_interface/EffortJointInterface</hardwareInterface>
    </joint>
    <actuator name="motor17">
      <mechanicalReduction>1</mechanicalReduction>
    </actuator>
  </transmission>
  <transmission name="tran18">
    <type>transmission_interface/SimpleTransmission</type>
    <joint name="handle_left_j3">
      <hardwareInterface>hardware_interface/EffortJointInterface</hardwareInterface>
    </joint>
    <actuator name="motor18">
      <mechanicalReduction>1</mechanicalReduction>
    </actuator>
  </transmission>
  <transmission name="tran19">
    <type>transmission_interface/SimpleTransmission</type>
    <joint name="shoulder_r">
      <hardwareInterface>hardware_interface/EffortJointInterface</hardwareInterface>
    </joint>
    <actuator name="motor19">
      <mechanicalReduction>1</mechanicalReduction>
    </actuator>
  </transmission>
  <transmission name="tran20">
    <type>transmission_interface/SimpleTransmission</type>
    <joint name="shoulder_psi_r">
      <hardwareInterface>hardware_interface/EffortJointInterface</hardwareInterface>
    </joint>
    <actuator name="motor20">
      <mechanicalReduction>1</mechanicalReduction>
    </actuator>
  </transmission>
  <transmission name="tran21">
    <type>transmission_interface/SimpleTransmission</type>
    <joint name="shoulder_theta_r">
      <hardwareInterface>hardware_interface/EffortJointInterface</hardwareInterface>
    </joint>
    <actuator name="motor21">
      <mechanicalReduction>1</mechanicalReduction>
    </actuator>
  </transmission>
  <transmission name="tran22">
    <type>transmission_interface/SimpleTransmission</type>
    <joint name="elbow_theta_r">
      <hardwareInterface>hardware_interface/EffortJointInterface</hardwareInterface>
    </joint>
    <actuator name="motor22">
      <mechanicalReduction>1</mechanicalReduction>
    </actuator>
  </transmission>
  <transmission name="tran23">
    <type>transmission_interface/SimpleTransmission</type>
    <joint name="elbow_right">
      <hardwareInterface>hardware_interface/EffortJointInterface</hardwareInterface>
    </joint>
    <actuator name="motor23">
      <mechanicalReduction>1</mechanicalReduction>
    </actuator>
  </transmission>
  <transmission name="tran24">
    <type>transmission_interface/SimpleTransmission</type>
    <joint name="handle_right_j1">
      <hardwareInterface>hardware_interface/EffortJointInterface</hardwareInterface>
    </joint>
    <actuator name="motor24">
      <mechanicalReduction>1</mechanicalReduction>
    </actuator>
  </transmission>
  <transmission name="tran25">
    <type>transmission_interface/SimpleTransmission</type>
    <joint name="handle_right_j2">
      <hardwareInterface>hardware_interface/EffortJointInterface</hardwareInterface>
    </joint>
    <actuator name="motor25">
      <mechanicalReduction>1</mechanicalReduction>
    </actuator>
  </transmission>
  <transmission name="tran26">
    <type>transmission_interface/SimpleTransmission</type>
    <joint name="handle_right_j3">
      <hardwareInterface>hardware_interface/EffortJointInterface</hardwareInterface>
    </joint>
    <actuator name="motor26">
      <mechanicalReduction>1</mechanicalReduction>
    </actuator>
  </transmission>
  <transmission name="tran27">
    <type>transmission_interface/SimpleTransmission</type>
    <joint name="elbow_xx_l">
      <hardwareInterface>hardware_interface/EffortJointInterface</hardwareInterface>
    </joint>
    <actuator name="motor27">
      <mechanicalReduction>1</mechanicalReduction>
    </actuator>
  </transmission>
  <transmission name="tran28">
    <type>transmission_interface/SimpleTransmission</type>
    <joint name="elbow_xx_r">
      <hardwareInterface>hardware_interface/EffortJointInterface</hardwareInterface>
    </joint>
    <actuator name="motor28">
      <mechanicalReduction>1</mechanicalReduction>
    </actuator>
  </transmission>
</robot>
